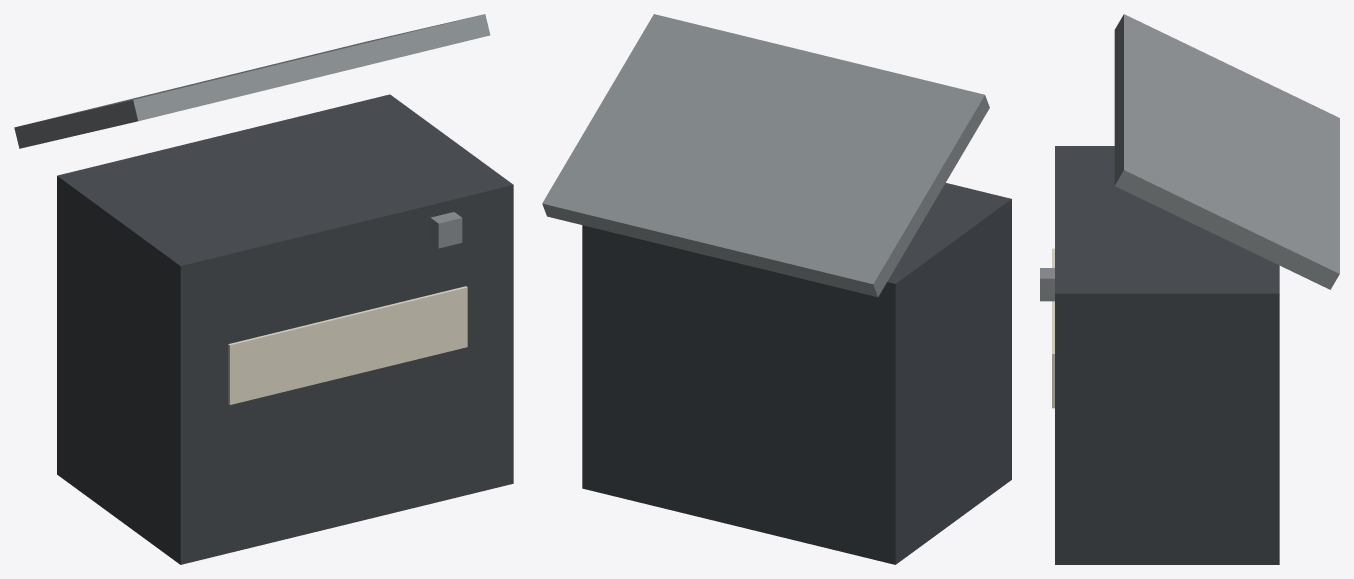
The model's file is Lost_property_bin.obj.
3 renders of one model, left to right at view 1: azimuth 30°, elevation 25°; view 2: azimuth 150°, elevation 25°; view 3: azimuth 270°, elevation 25°, orthographic. The views are drawn at different scales.
Visible parts, largest first — view 1: Lost_property_bin; view 2: Lost_property_bin; view 3: Lost_property_bin.
Boxes of the visible parts, bbox=[...] form: Lost_property_bin: bbox=[14, 14, 513, 564]; Lost_property_bin: bbox=[542, 14, 1011, 564]; Lost_property_bin: bbox=[1040, 14, 1339, 564].
Bounding box in the file's own units: 0.74 × 0.8827 × 0.6007.
